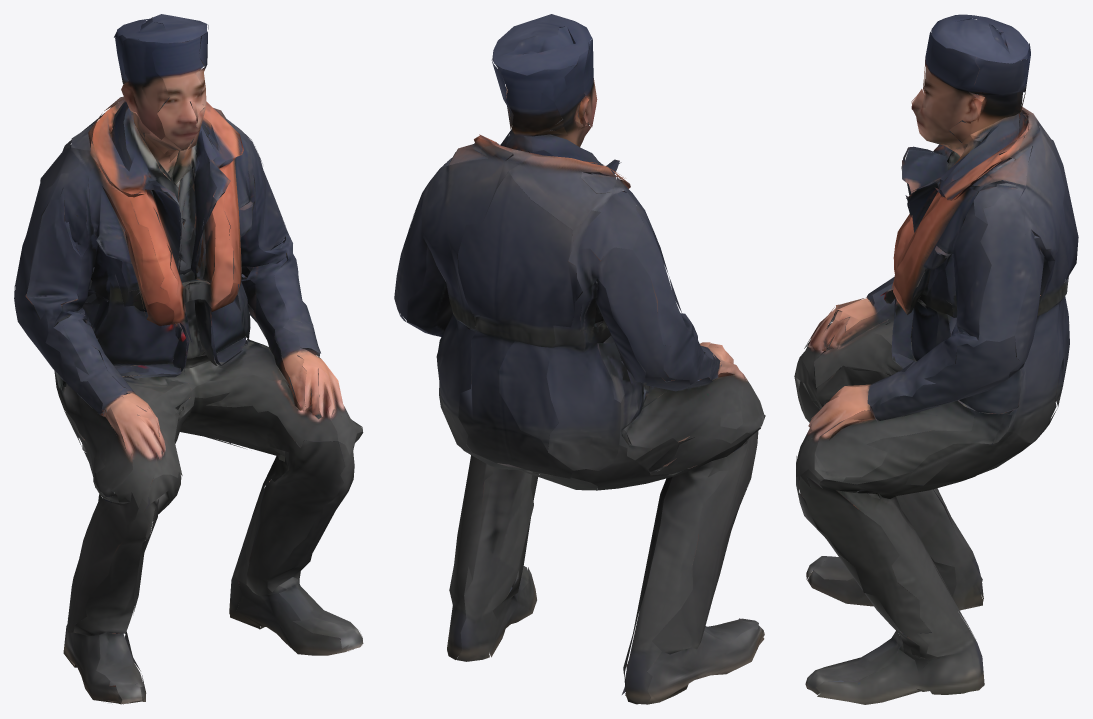
File: crew.glb
3 views of the same model, side by side, from view 1: azimuth 30°, elevation 25°; view 2: azimuth 150°, elevation 25°; view 3: azimuth 270°, elevation 25° (orthographic). The views are drawn at different scales.
Visible parts, largest first — view 1: Lux3D crew; view 2: Lux3D crew; view 3: Lux3D crew.
Boxes of the visible parts, x1,y1,x2,y2 form: Lux3D crew: (14, 14, 363, 704); Lux3D crew: (394, 14, 765, 704); Lux3D crew: (794, 14, 1078, 704).
Bounding box in the file's own units: 0.4518 × 1 × 0.4128.
1 material, 1 textured.
